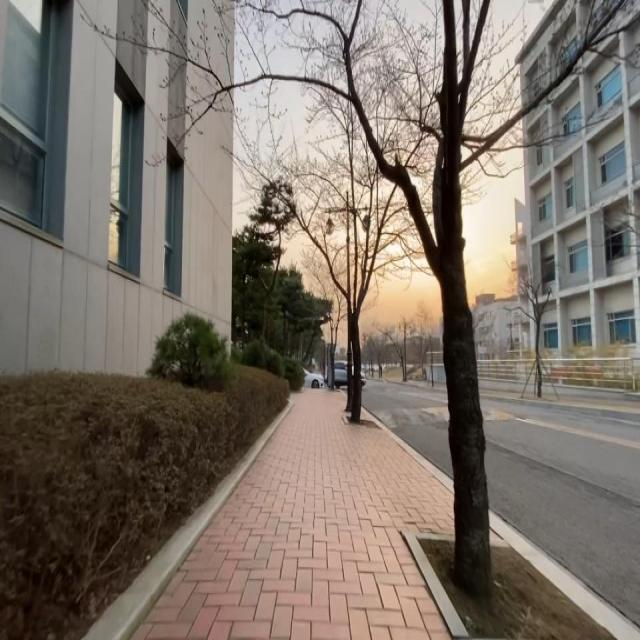sidewalk: (130, 391, 464, 640), (480, 390, 640, 414)
